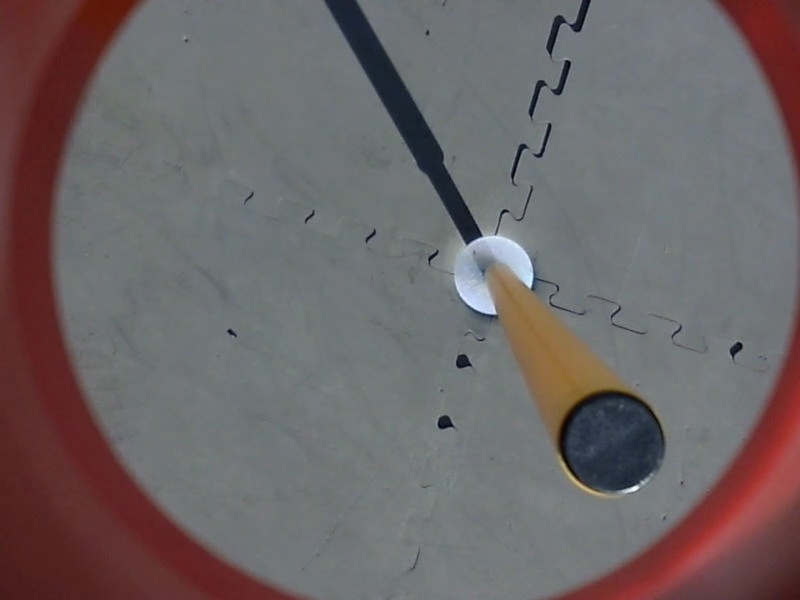tip: (555, 382, 674, 507)
